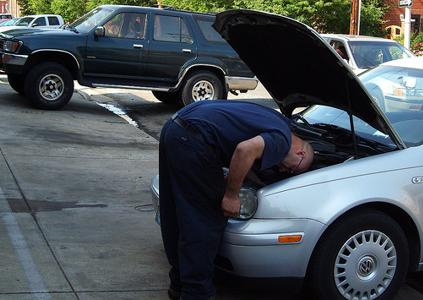person: (156, 100, 318, 300)
